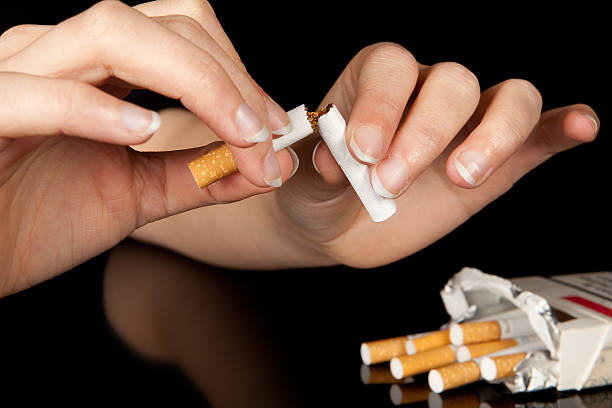cigarette: (439, 265, 612, 395), (187, 105, 315, 190), (315, 103, 399, 225), (449, 315, 535, 348), (388, 343, 457, 381), (456, 334, 538, 365), (427, 359, 480, 396), (357, 336, 408, 367), (479, 352, 527, 383), (404, 329, 451, 356)
